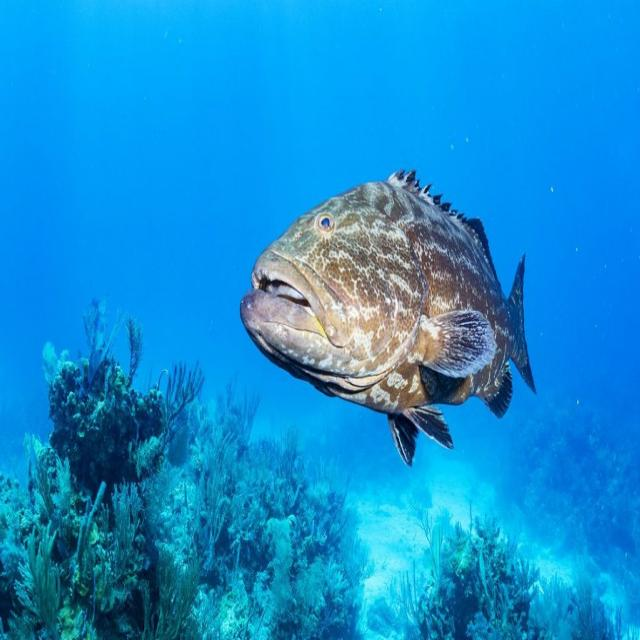grouper: (239, 153, 537, 465)
